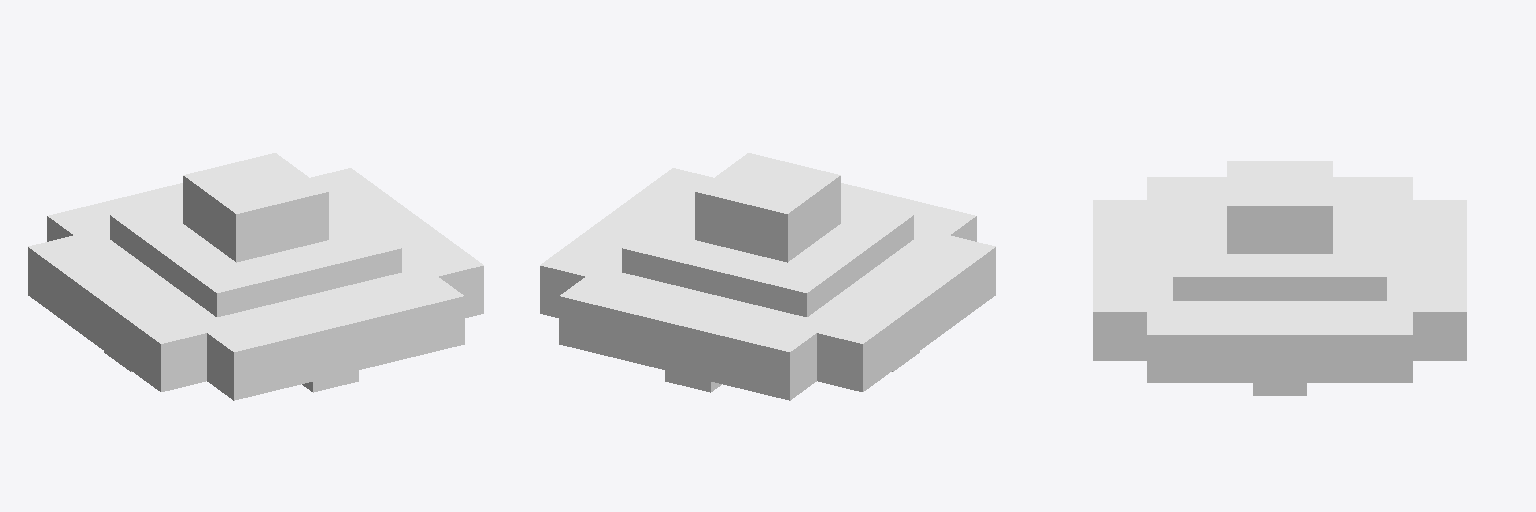
The model's file is ufo_map.obj.
The picture shows the model from 3 angles: view 1: azimuth 30°, elevation 25°; view 2: azimuth 150°, elevation 25°; view 3: azimuth 270°, elevation 25°; orthographic projection.
Size of the model in its own units: 14 by 6 by 14.